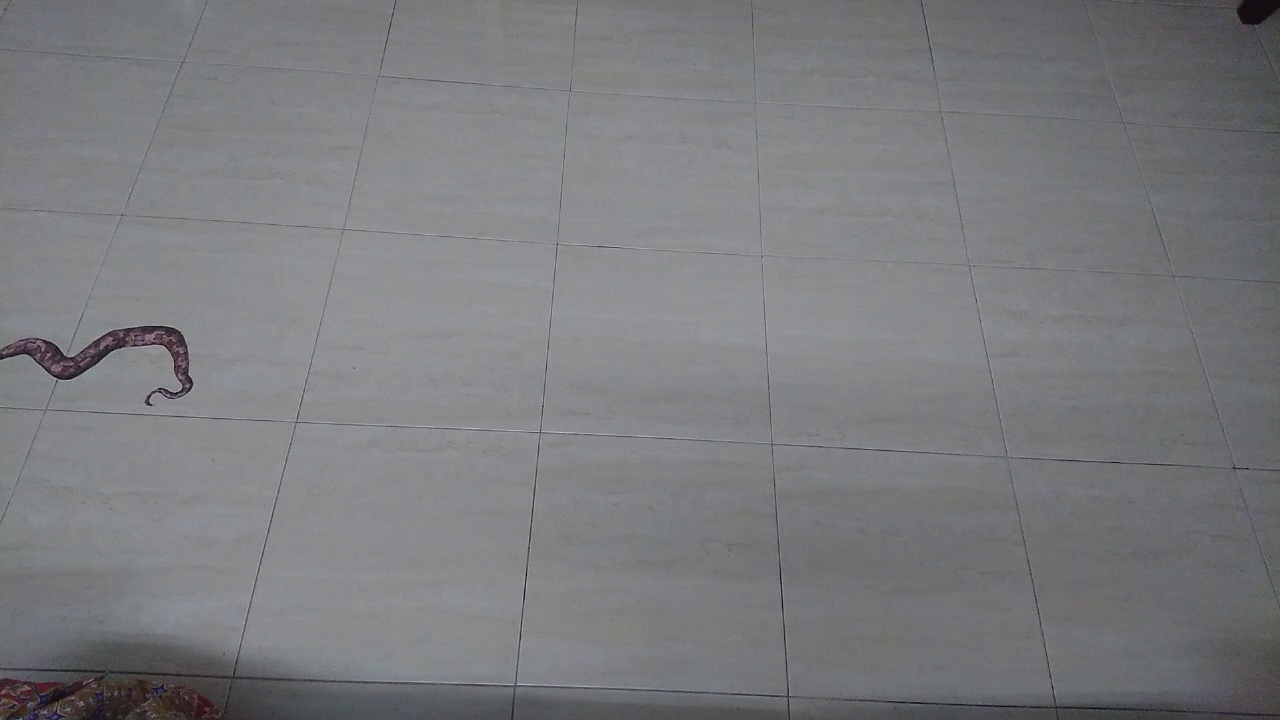snake: (1, 306, 212, 415)
